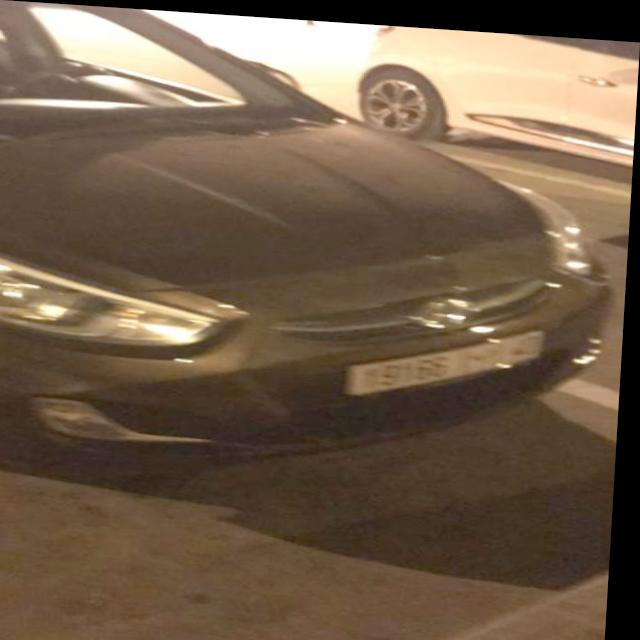License-Plate: (350, 323, 549, 389)
